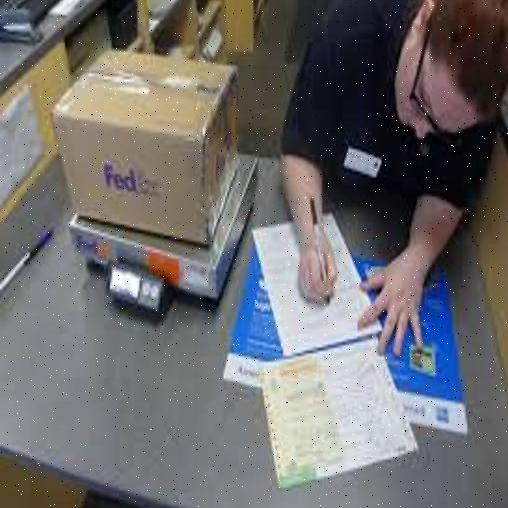FedEx: (57, 53, 267, 252)
